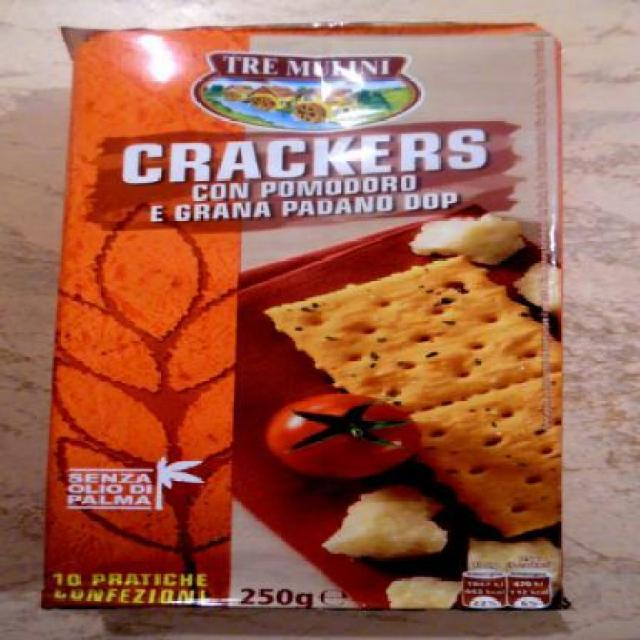Cracker: (43, 14, 591, 620)
